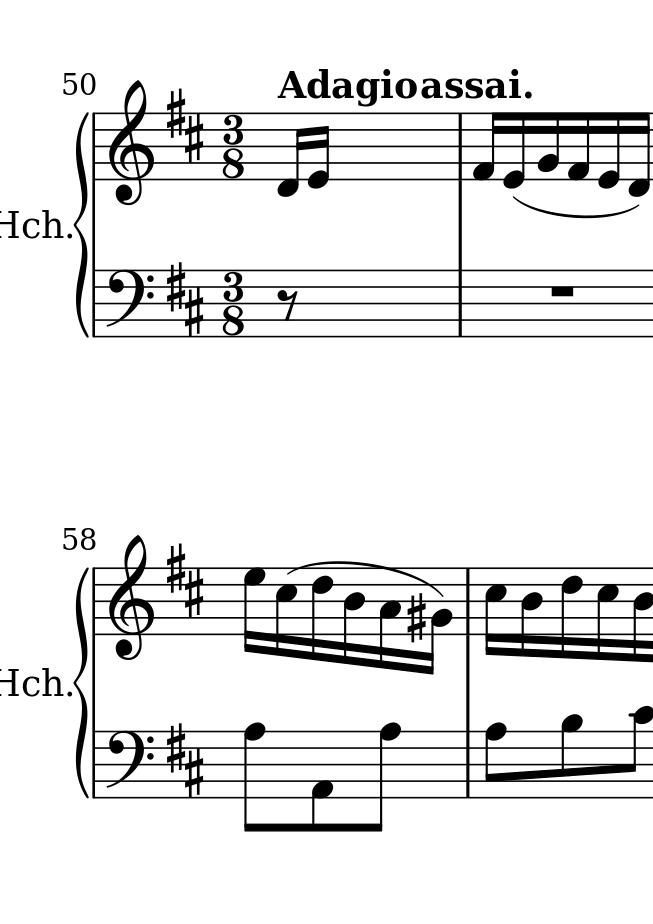0: (80, 66, 96, 97)
16_-1: (624, 107, 652, 202), (274, 110, 304, 198)
16_0: (595, 110, 623, 191), (308, 112, 333, 192), (503, 111, 528, 191)
16_1: (471, 110, 503, 184), (567, 108, 591, 184)
16_2: (423, 566, 454, 677), (536, 111, 562, 181)
16_3: (377, 565, 401, 671)
16_4: (341, 566, 366, 669), (627, 565, 653, 664), (518, 566, 544, 658)
16_5: (593, 566, 621, 661), (483, 565, 510, 659), (273, 565, 297, 660)
16_6: (557, 566, 584, 658), (309, 568, 334, 664)
16_7: (240, 566, 266, 657)
3: (221, 269, 247, 305), (221, 113, 245, 147)
5: (60, 68, 78, 97), (61, 524, 78, 553), (78, 523, 96, 550)
8: (219, 303, 247, 338), (222, 146, 247, 182)
8_1: (308, 729, 335, 835)
8_10: (621, 704, 653, 799)
8_8: (362, 720, 402, 834), (241, 721, 269, 833), (483, 721, 509, 801)
8_9: (557, 711, 585, 801)
Brace: (73, 566, 91, 798), (72, 112, 90, 338)
D_S: (164, 260, 206, 336), (162, 542, 204, 618), (165, 720, 205, 799), (165, 85, 203, 162)
Fclef: (103, 729, 157, 800), (105, 270, 155, 326)
Gclef: (105, 534, 158, 662), (106, 77, 156, 208)
Rests1: (547, 281, 580, 304)
Rests8: (274, 287, 300, 319)
Sharp: (183, 286, 206, 340), (164, 540, 187, 594), (184, 113, 207, 166), (184, 567, 206, 619), (407, 592, 429, 644), (166, 84, 187, 138), (164, 260, 185, 312), (184, 749, 205, 800), (165, 721, 186, 771)
Single_barline: (449, 269, 473, 338), (457, 568, 479, 637), (450, 113, 471, 181), (459, 727, 477, 799), (88, 113, 106, 179), (90, 269, 107, 338), (87, 730, 103, 799), (88, 568, 104, 635)
Slur: (288, 559, 445, 599)
TimeSig: (221, 270, 245, 340), (223, 113, 243, 180)
